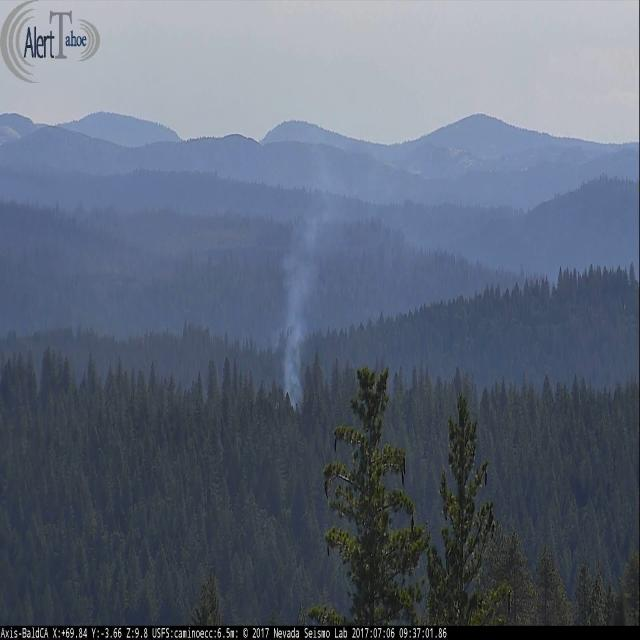smoke: (286, 196, 315, 413)
